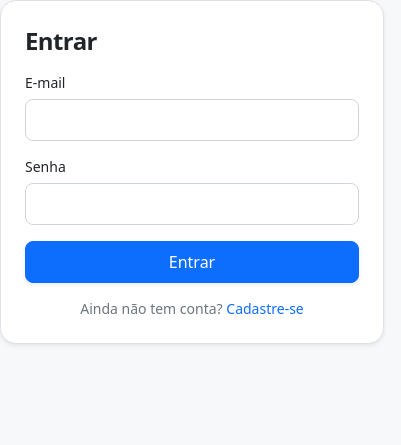
Test: LoginForm › mostra erro quando o login falha por problema de rede
In the field labelled "E-mail": (192, 120) [25,99,359,141], type "ana@example.com"
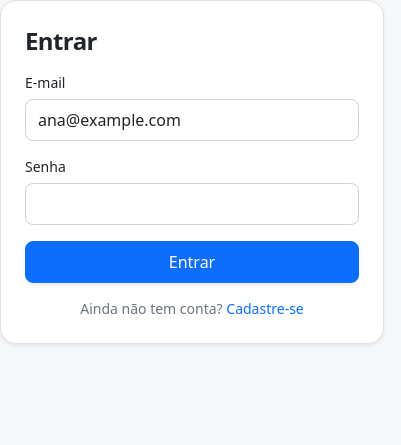
In the password field labelled "Senha": (192, 204) [25,183,359,225], type "senha1234"
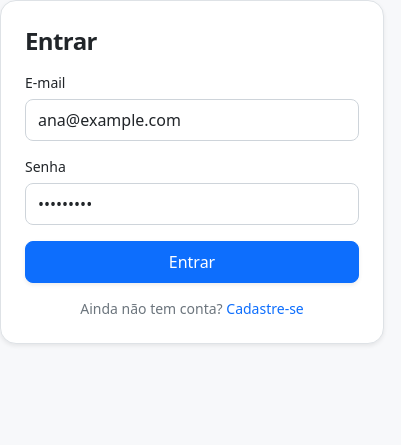
Click the button "Entrar": (192, 262) [25,241,359,283]
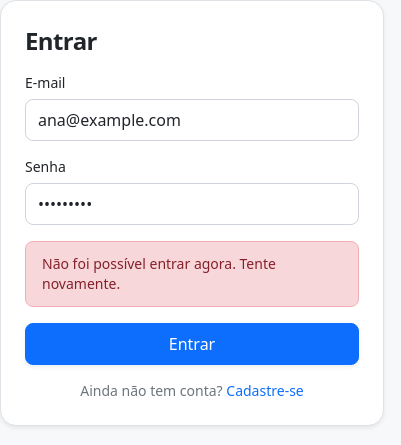
Now the message shows "Não foi possível entrar", box [42,254,276,293]
